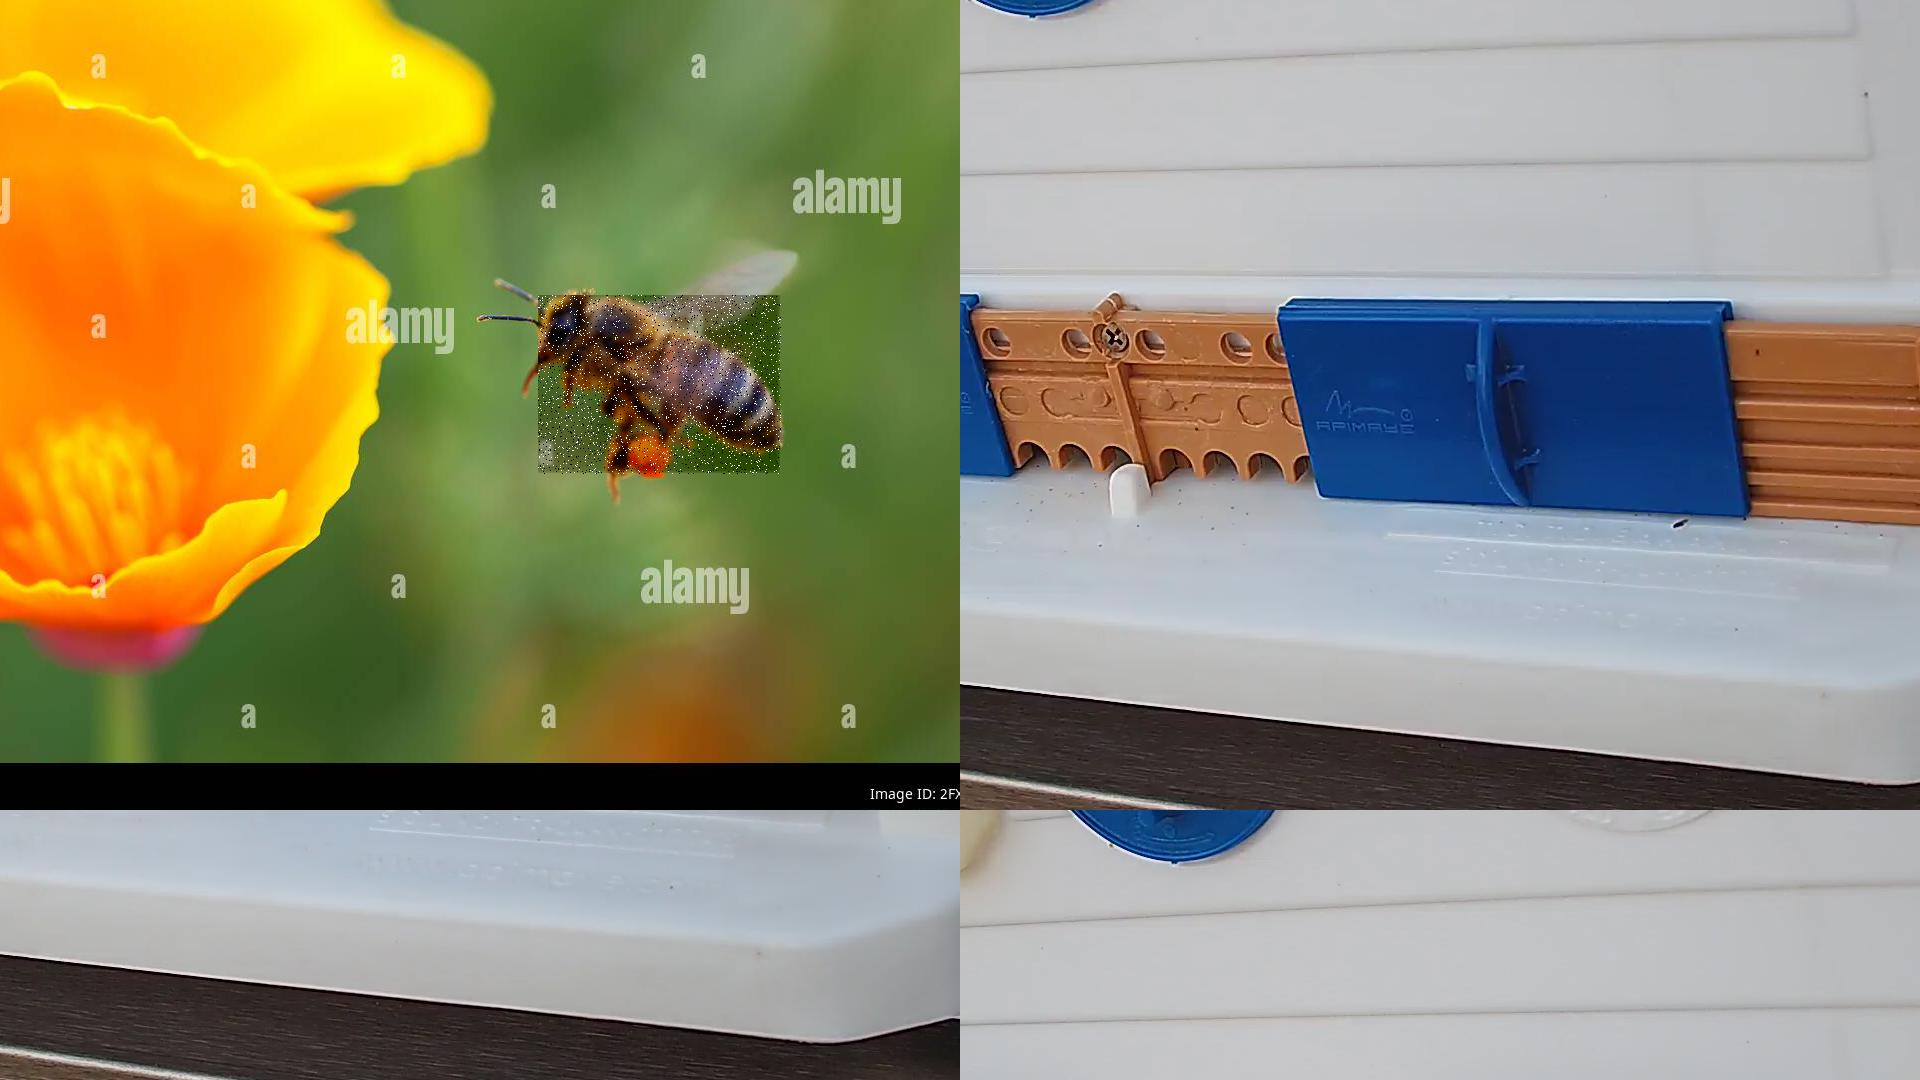pollenbee: (538, 295, 782, 476)
